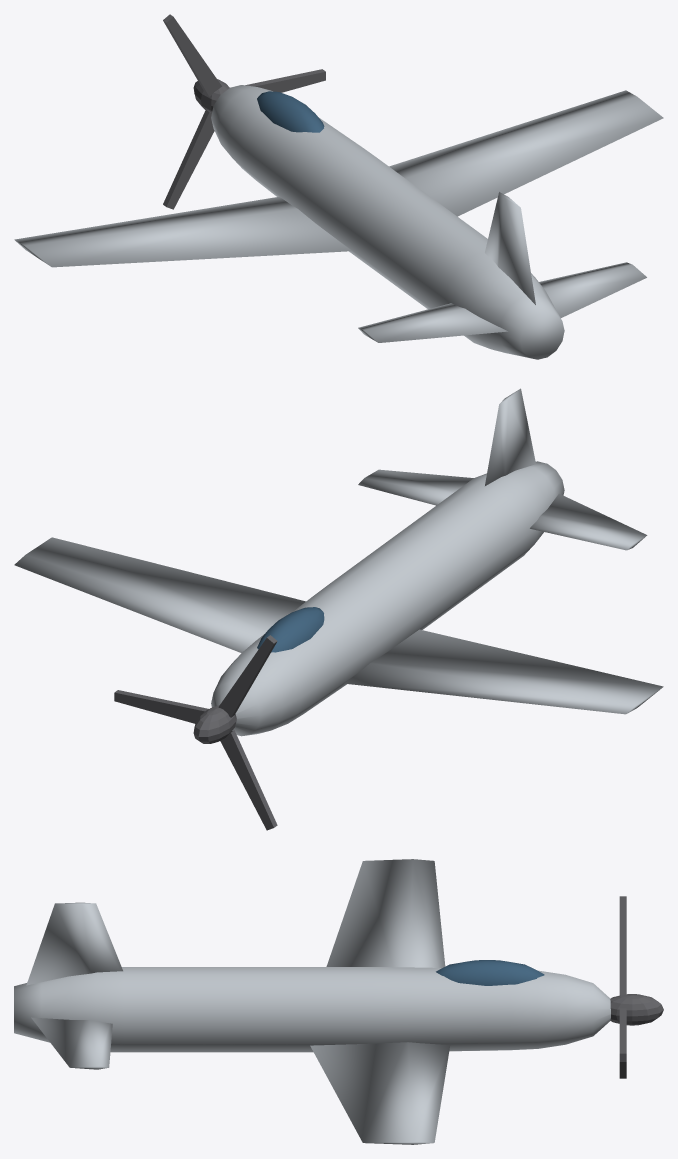
The picture shows the model from 3 angles, top to bottom: view 1: azimuth 30°, elevation 25°; view 2: azimuth 150°, elevation 25°; view 3: azimuth 270°, elevation 25°; orthographic projection. The views are drawn at different scales.
Parts seen in each view (by area): view 1: Body, Detail, Canopy; view 2: Body, Detail, Canopy; view 3: Body, Detail, Canopy.
Boxes of the visible parts, x1,y1,x2,y2 form: Body: (14,85,663,359); Detail: (163,14,325,209); Canopy: (257,91,324,132); Body: (14,388,663,736); Detail: (114,635,277,830); Canopy: (257,607,324,652); Body: (14,859,610,1144); Detail: (610,896,663,1078); Canopy: (436,960,544,985).
Bounding box in the file's own units: 990 × 323 × 964.
